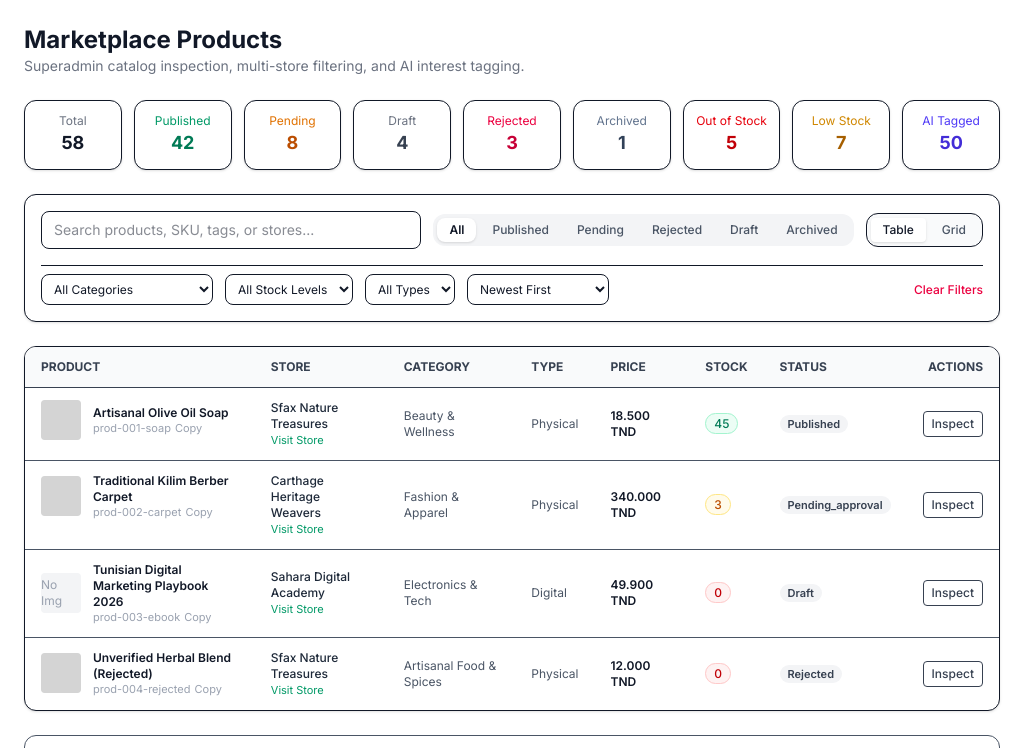
Test: Superadmin Marketplace Products Hub (`/products`) — Component & Integration Suite › Suite 3: Universal Search, Multi-Faceted Filters & Sorting › resets all active filters when "Clear Filters" button is clicked
Expected: the text "Artisanal Olive Oil Soap" is shown, [93,405,228,421]
Type "test-query" into the field with placeholder "Search products, SKU, tags, or stores...".
click(231, 230); type("test-query")  # box [41,211,421,249]
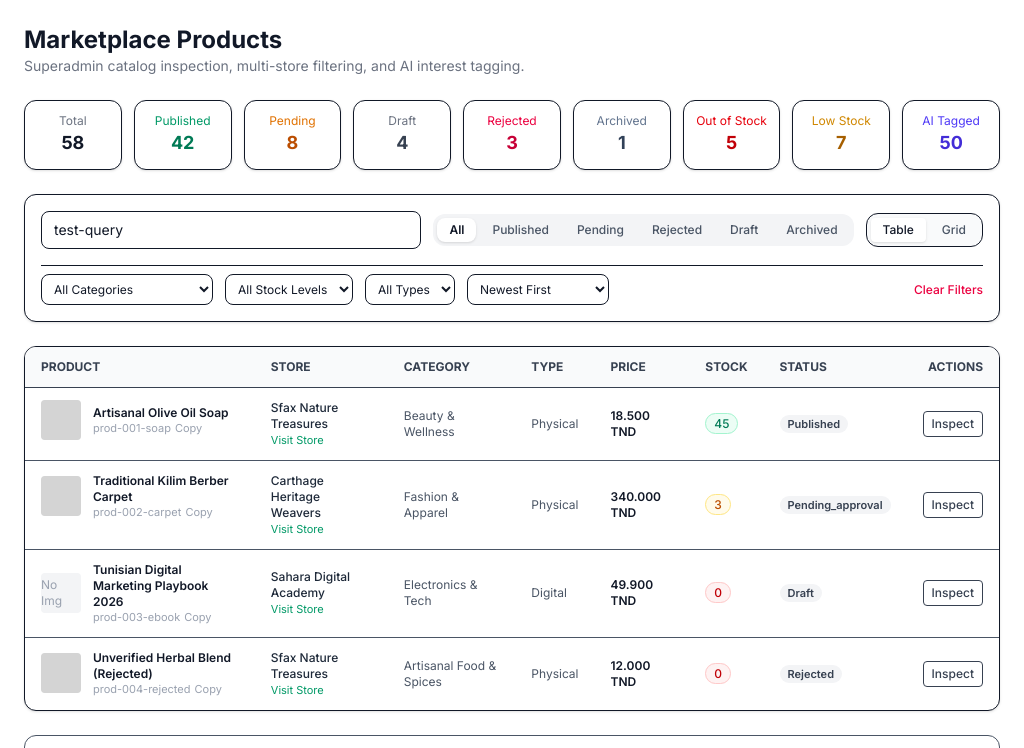
Click the button "Clear Filters".
click(948, 290)  # box [914,282,983,298]
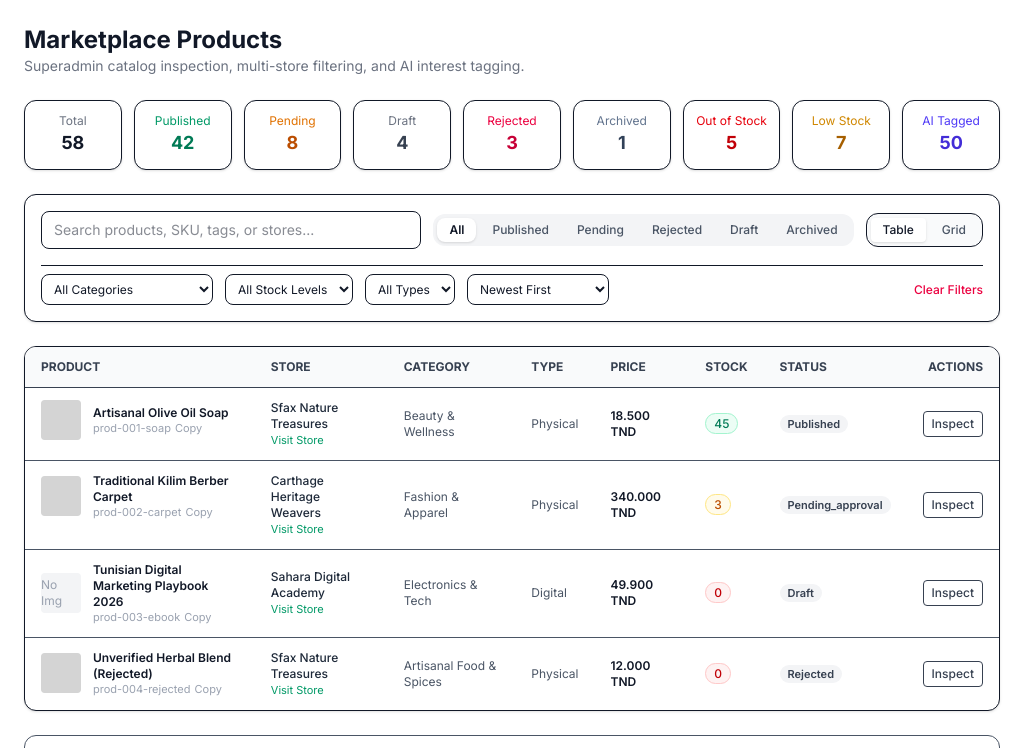
Expected: the field with placeholder "Search products, SKU, tags, or stores..." is empty, [41,211,421,249]
